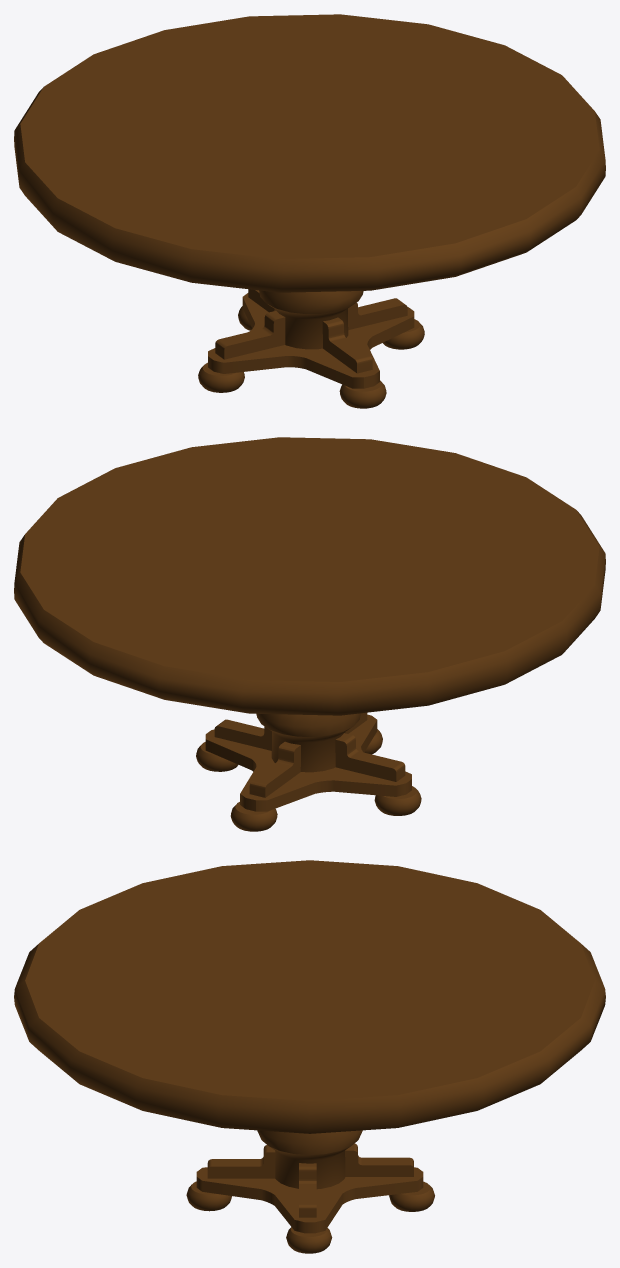
File: BigTable2.fbx
The picture shows the model from 3 angles, top to bottom: view 1: azimuth 30°, elevation 25°; view 2: azimuth 150°, elevation 25°; view 3: azimuth 270°, elevation 25°; orthographic projection. The views are drawn at different scales.
Parts seen in each view (by area): view 1: TableTop, pCube40, pCube44, pCube41, pCube42, pCylinder36, pCylinder39, pCylinder37; view 2: TableTop, pCube40, pCube44, pCube43, pCube42, pCylinder38, pCylinder39, pCylinder37; view 3: TableTop, pCube40, pCube41, pCube43, pCube42, pCylinder37, pCylinder38, pCylinder36.
Part boxes in pixels (bbox=[...]): TableTop: bbox=[14, 14, 605, 349]; pCube40: bbox=[208, 293, 414, 388]; pCube44: bbox=[215, 311, 285, 359]; pCube41: bbox=[322, 317, 372, 373]; pCube42: bbox=[348, 298, 407, 329]; pCylinder36: bbox=[339, 380, 386, 408]; pCylinder39: bbox=[198, 362, 244, 392]; pCylinder37: bbox=[383, 319, 424, 349]; TableTop: bbox=[14, 437, 605, 772]; pCube40: bbox=[205, 714, 411, 811]; pCube44: bbox=[335, 733, 405, 781]; pCube43: bbox=[249, 741, 300, 797]; pCube42: bbox=[214, 719, 271, 750]; pCylinder38: bbox=[230, 802, 277, 831]; pCylinder39: bbox=[374, 786, 421, 815]; pCylinder37: bbox=[196, 742, 238, 771]; TableTop: bbox=[14, 860, 605, 1189]; pCube40: bbox=[196, 1167, 423, 1233]; pCube41: bbox=[207, 1145, 275, 1178]; pCube43: bbox=[345, 1143, 413, 1176]; pCube42: bbox=[299, 1163, 316, 1217]; pCylinder37: bbox=[286, 1227, 332, 1253]; pCylinder38: bbox=[389, 1181, 434, 1211]; pCylinder36: bbox=[186, 1181, 231, 1211].
Bounding box in the file's own units: 199 × 83.97 × 203.
